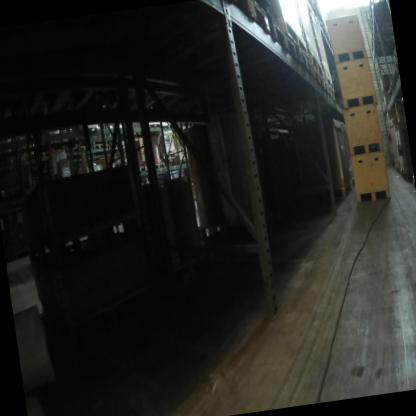pallet: (227, 0, 275, 42), (269, 20, 299, 68), (367, 29, 396, 58), (368, 12, 393, 33), (298, 46, 314, 76), (311, 65, 327, 95), (322, 77, 337, 108), (309, 0, 324, 30), (367, 0, 390, 19), (389, 56, 401, 86), (144, 123, 161, 140), (385, 79, 398, 101), (85, 150, 102, 166), (71, 144, 89, 158), (135, 163, 152, 177), (163, 151, 180, 165), (151, 156, 164, 173), (93, 140, 108, 153), (393, 162, 402, 178)
